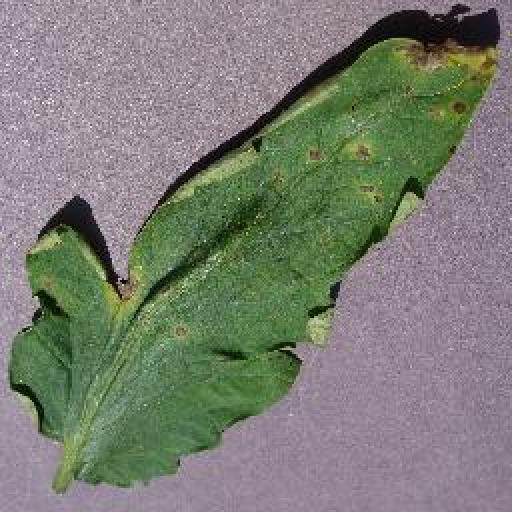Septoria: (13, 36, 500, 487)
